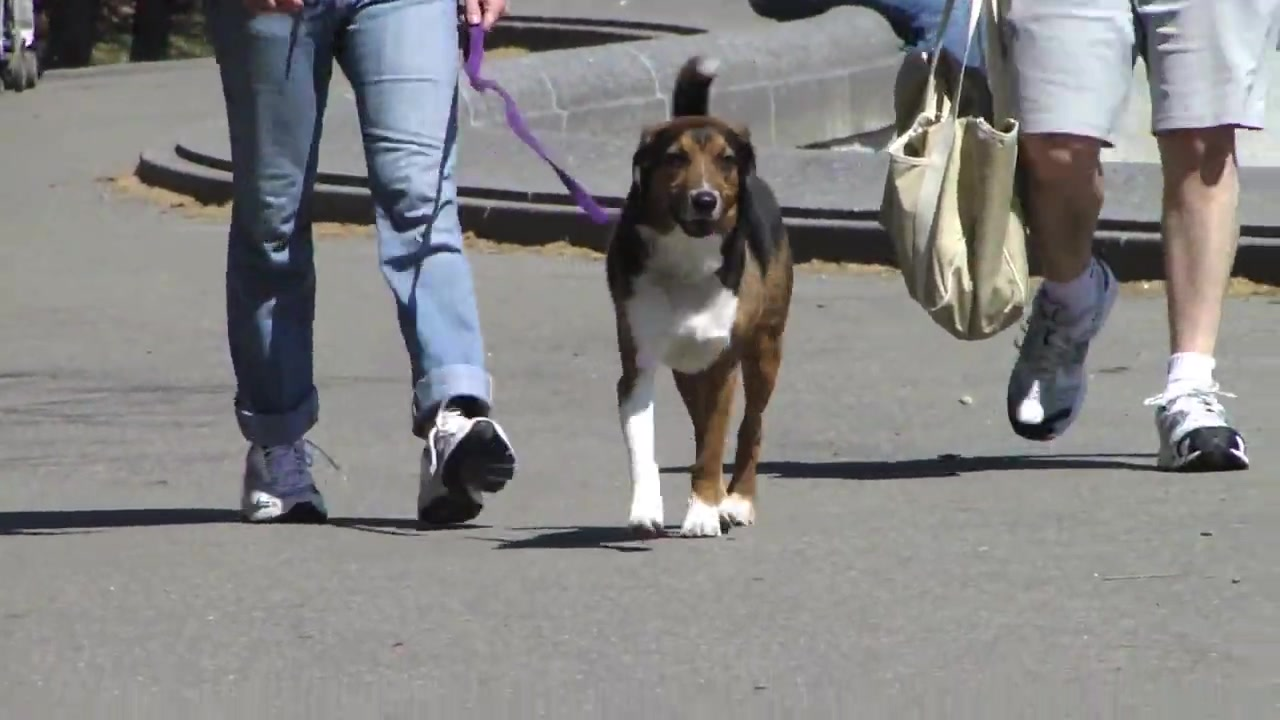dog: (607, 49, 797, 541)
